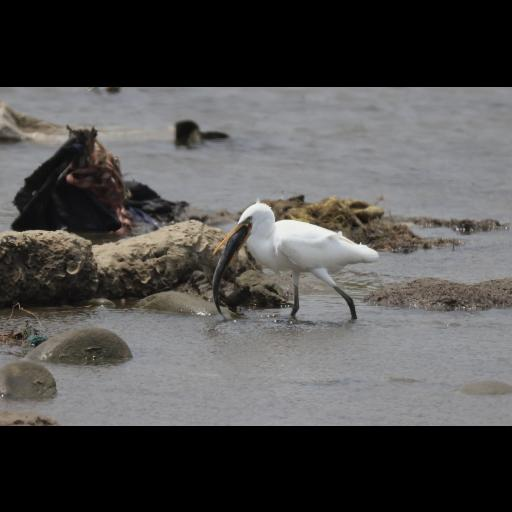chinese_egret: (214, 196, 380, 322)
